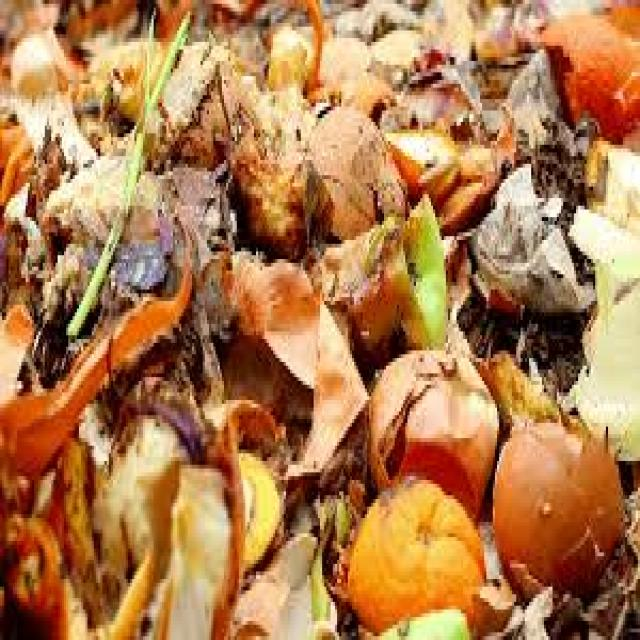Organik: (0, 0, 640, 640), (313, 335, 640, 636)
